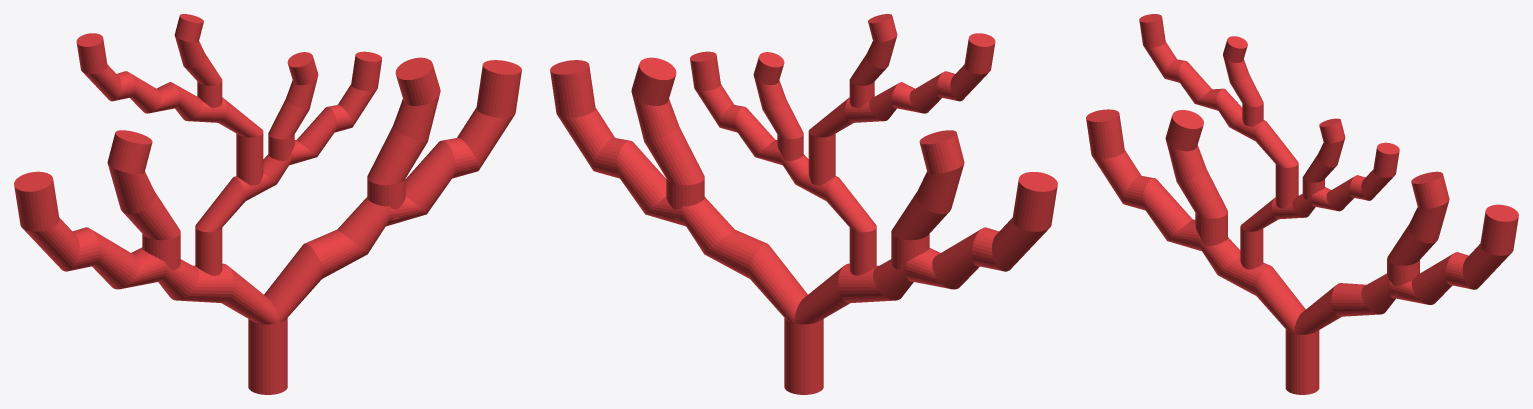
3 renders of one model, left to right at view 1: azimuth 30°, elevation 25°; view 2: azimuth 150°, elevation 25°; view 3: azimuth 330°, elevation 25°, orthographic. The views are drawn at different scales.
Parts seen in each view (by area): view 1: Cylinder.006; view 2: Cylinder.006; view 3: Cylinder.006.
Part boxes in pixels (x1,y1,x2,y2): Cylinder.006: [14, 14, 521, 394]; Cylinder.006: [550, 14, 1057, 394]; Cylinder.006: [1086, 14, 1518, 394].
Bounding box in the file's own units: 1.36 × 1.01 × 0.0927.
